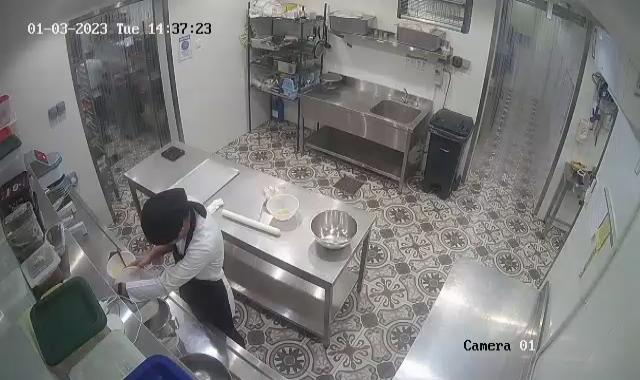no_hairnet: (139, 186, 192, 246)
